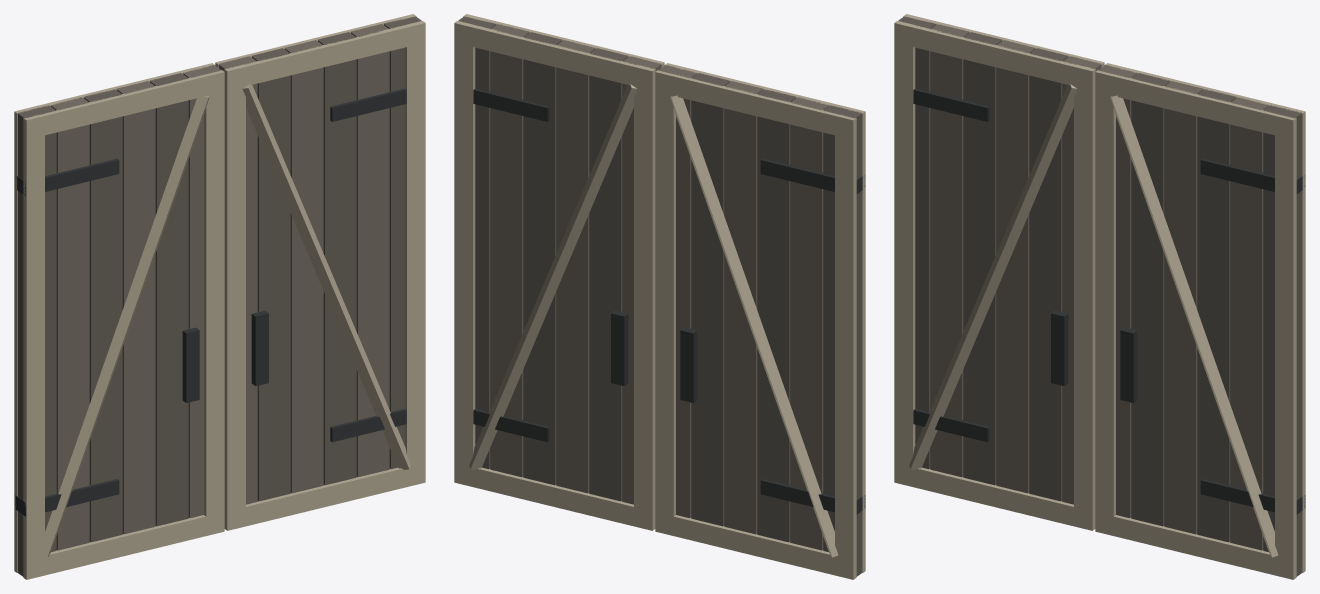
The model's file is prop_door_barn.glb.
The picture shows the model from 3 angles, left to right: view 1: azimuth 30°, elevation 25°; view 2: azimuth 150°, elevation 25°; view 3: azimuth 330°, elevation 25°; orthographic projection.
Visible parts, largest first — view 1: LeafL, LeafR; view 2: LeafL, LeafR; view 3: LeafR, LeafL.
Part boxes in pixels (x1=…): LeafL: x1=14, y1=63, x2=224, y2=579; LeafR: x1=215, y1=14, x2=425, y2=530; LeafL: x1=655, y1=63, x2=865, y2=579; LeafR: x1=454, y1=14, x2=664, y2=530; LeafR: x1=1095, y1=63, x2=1305, y2=579; LeafL: x1=894, y1=14, x2=1104, y2=530.
Size of the model in its own units: 3 by 3.3 by 0.22.
